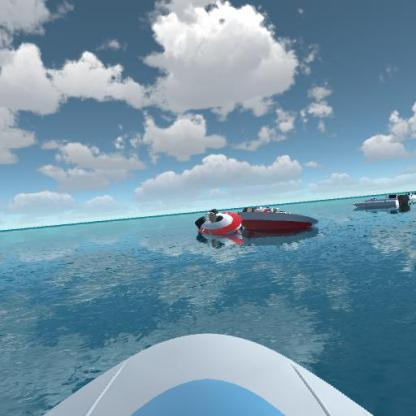usv1: (354, 193, 410, 218), (402, 184, 416, 204)
usv3: (240, 200, 322, 242), (191, 205, 245, 240)
